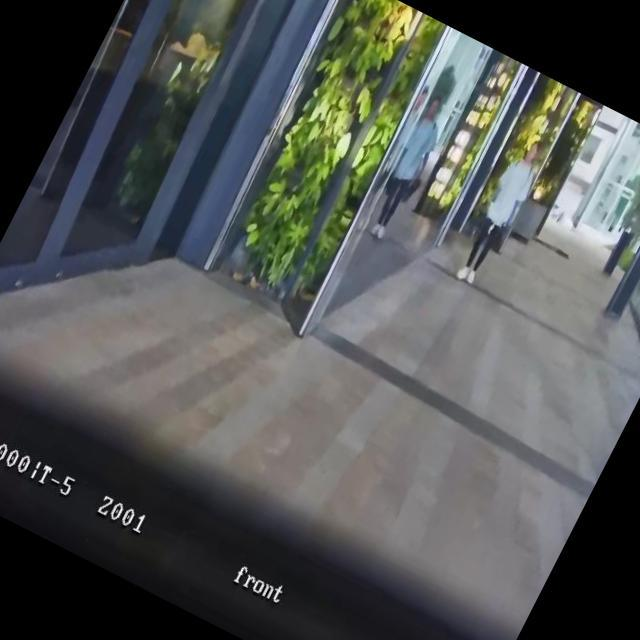person: (450, 134, 552, 292), (359, 90, 458, 244)
